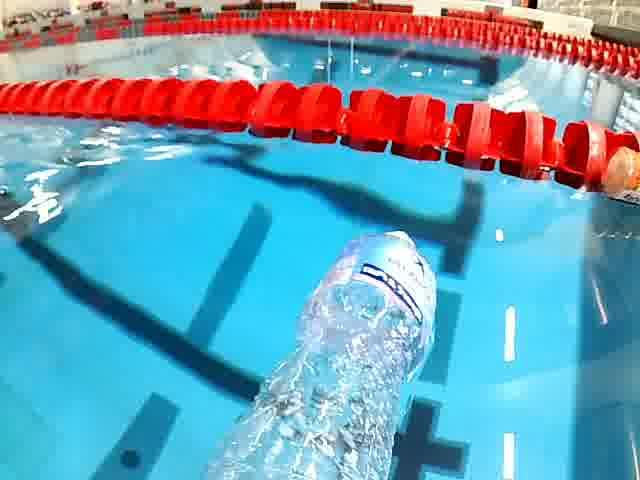Bottle: (195, 222, 443, 480), (598, 144, 640, 210)
